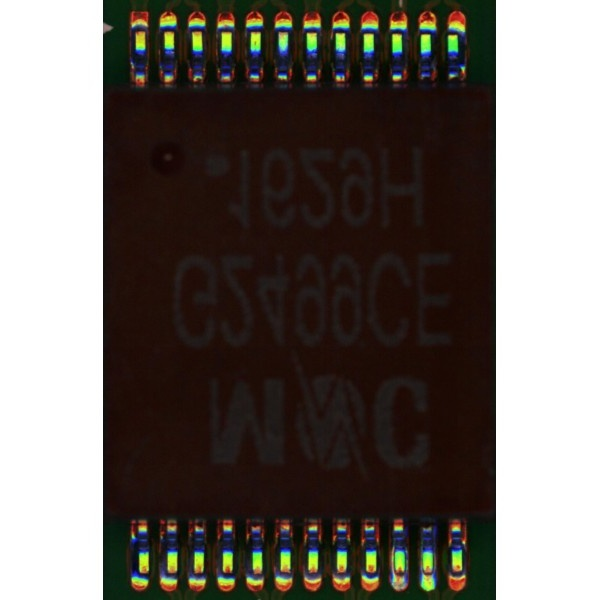Bad_qiaojiao: (405, 543, 410, 574), (391, 545, 395, 573)
